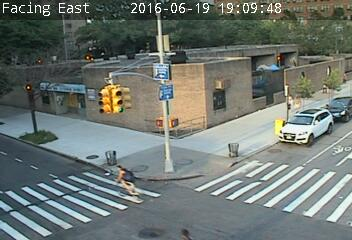neg: (105, 158, 143, 208), (23, 98, 49, 133), (53, 87, 72, 112), (325, 144, 339, 163)
pos: (288, 90, 306, 115), (282, 93, 297, 113)
